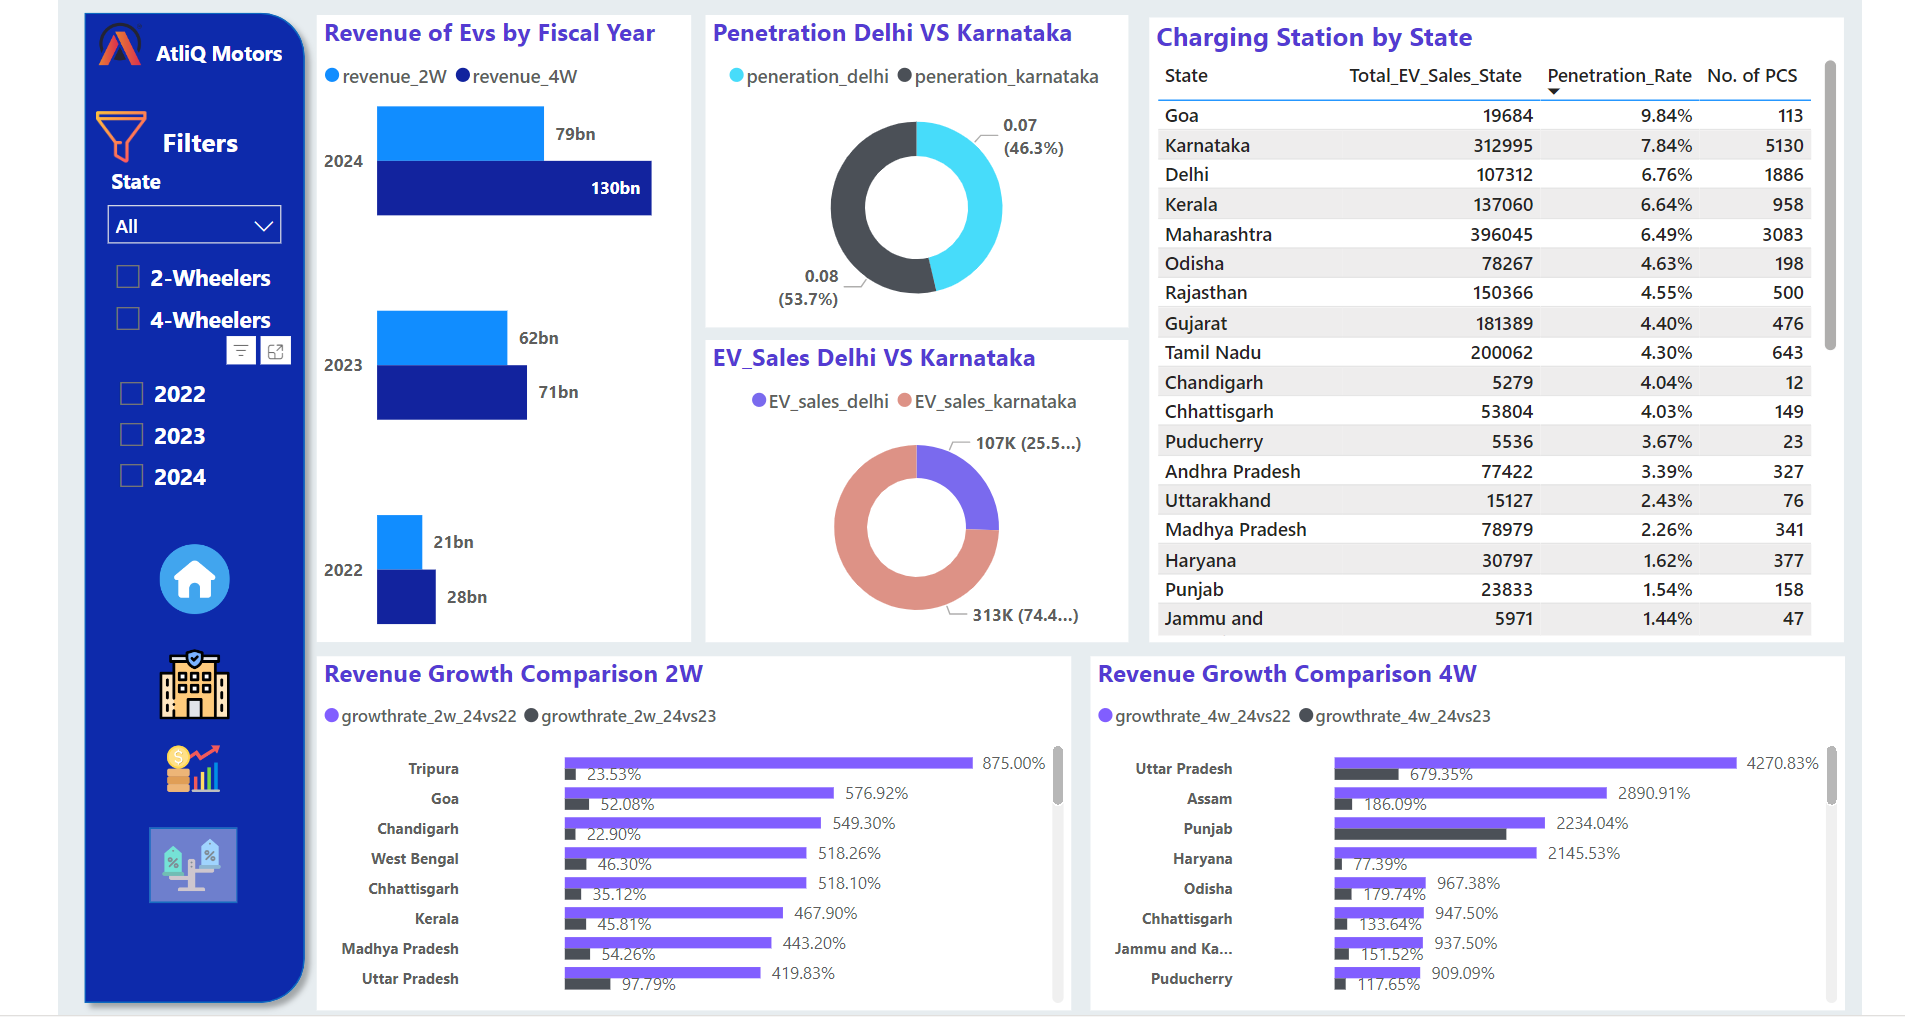

What the dashboard file says about the page in this screenshot:
{"tool":"powerbi","page":{"name":"Sales_States","canvas":[1280,720],"ordinal":3},"visuals":[{"type":"shape","box":[9.6,0,174,720.4],"z":0},{"type":"image","box":[20.6,11,48,41.2],"z":1000},{"type":"textbox","box":[49.4,22,124.9,41.2],"z":2000},{"type":"slicer","fields":{"Values":["dim_date.fiscal_year"]},"box":[29.1,241.9,144.2,100],"z":3000},{"type":"textbox","box":[68.6,100,104.7,53.5],"z":4000},{"type":"image","box":[65.1,360.5,59.3,60.5],"z":5000},{"type":"image","box":[60.5,493,68.6,60.5],"z":6000},{"type":"shape","box":[67.4,497.7,55.8,51.2],"z":7000},{"type":"image","box":[65.1,424.4,60.5,59.3],"z":8000},{"type":"tableEx","title":"Top 5 State Highest Penetration Rate","fields":{"Values":["electric_vehicle_sales_by_state.state","electric_vehicle_sales_by_state.vehicle_category","Key Measures.EV_sale_state","Key Measures.TV_sales_state","Key Measures.Penetration_rate"]},"box":[666.3,9.3,600,162.8],"z":9000},{"type":"tableEx","title":"States Negative Penetration (Decline)","fields":{"Values":["electric_vehicle_sales_by_state.state","Key Measures.PR_22","Key Measures.PR_24","Key Measures.PR_decline"]},"box":[219.8,209.3,410.5,232.6],"z":10000},{"type":"donutChart","title":"EV_Sales Delhi VS Karnataka 2024","fields":{"Y":["Key Measures.EV_sales_delhi_24","Key Measures.EV_sales_karnataka_24"]},"box":[665.1,189.5,293,222.1],"z":11000},{"type":"donutChart","title":"Penetration Delhi VS  Karnataka 2024","fields":{"Y":["Key Measures.peneration_delhi","Key Measures.peneration_karnataka"]},"box":[966.3,189.5,300,220.9],"z":12000},{"type":"barChart","title":"Top 10 States Highest CAGR 22-24 in T.V. Sales","fields":{"Category":["electric_vehicle_sales_by_state.state"],"Y":["Key Measures.cagr_22-24_TV"]},"box":[219.8,9.3,410.5,180.2],"z":13000},{"type":"lineChart","title":"EV_Sales - 2022, 2023 and 2024","fields":{"Category":["dim_date.date.Variation.Date Hierarchy.Month"],"Y":["Key Measures.EV_sales_22","Key Measures.EV_sales_23","Key Measures.EV_sales_24"]},"box":[665.1,420.9,601.2,294.2],"z":14000},{"type":"tableEx","title":"Projected Sales 2030 of  Top 10 States Highest Penetration Rate","fields":{"Values":["electric_vehicle_sales_by_state.state","Key Measures.Penetration_rate","Key Measures.Proj_EV_sales_2030"]},"box":[219.8,454.7,410.5,260.5],"z":15000},{"type":"image","box":[20.9,100,47.7,48.8],"z":16000},{"type":"textbox","box":[20.9,638.4,152.3,76.7],"z":17000},{"type":"image","box":[65.1,564,60.5,60.5],"z":18000},{"type":"slicer","fields":{"Values":["electric_vehicle_sales_by_state.vehicle_category"]},"box":[30.2,154.7,134.9,87.2],"z":19000}]}

Visuals, with their boxes on the page's 1280x720 design canvas (x1, y1, x2, y2). These are canvas units, not pixel positions in the 1905x1017 screenshot, which may show the page scaled, cropped or inside an application window:
shape: box=[10, 0, 184, 720]
image: box=[21, 11, 69, 52]
textbox: box=[49, 22, 174, 63]
slicer - dim_date.fiscal_year: box=[29, 242, 173, 342]
textbox: box=[69, 100, 173, 154]
image: box=[65, 360, 124, 421]
image: box=[60, 493, 129, 554]
shape: box=[67, 498, 123, 549]
image: box=[65, 424, 126, 484]
"Top 5 State Highest Penetration Rate" tableEx: box=[666, 9, 1266, 172]
"States Negative Penetration (Decline)" tableEx: box=[220, 209, 630, 442]
"EV_Sales Delhi VS Karnataka 2024" donutChart: box=[665, 190, 958, 412]
"Penetration Delhi VS  Karnataka 2024" donutChart: box=[966, 190, 1266, 410]
"Top 10 States Highest CAGR 22-24 in T.V. Sales" barChart: box=[220, 9, 630, 190]
"EV_Sales - 2022, 2023 and 2024" lineChart: box=[665, 421, 1266, 715]
"Projected Sales 2030 of  Top 10 States Highest Penetration Rate" tableEx: box=[220, 455, 630, 715]
image: box=[21, 100, 69, 149]
textbox: box=[21, 638, 173, 715]
image: box=[65, 564, 126, 624]
slicer - electric_vehicle_sales_by_state.vehicle_category: box=[30, 155, 165, 242]
